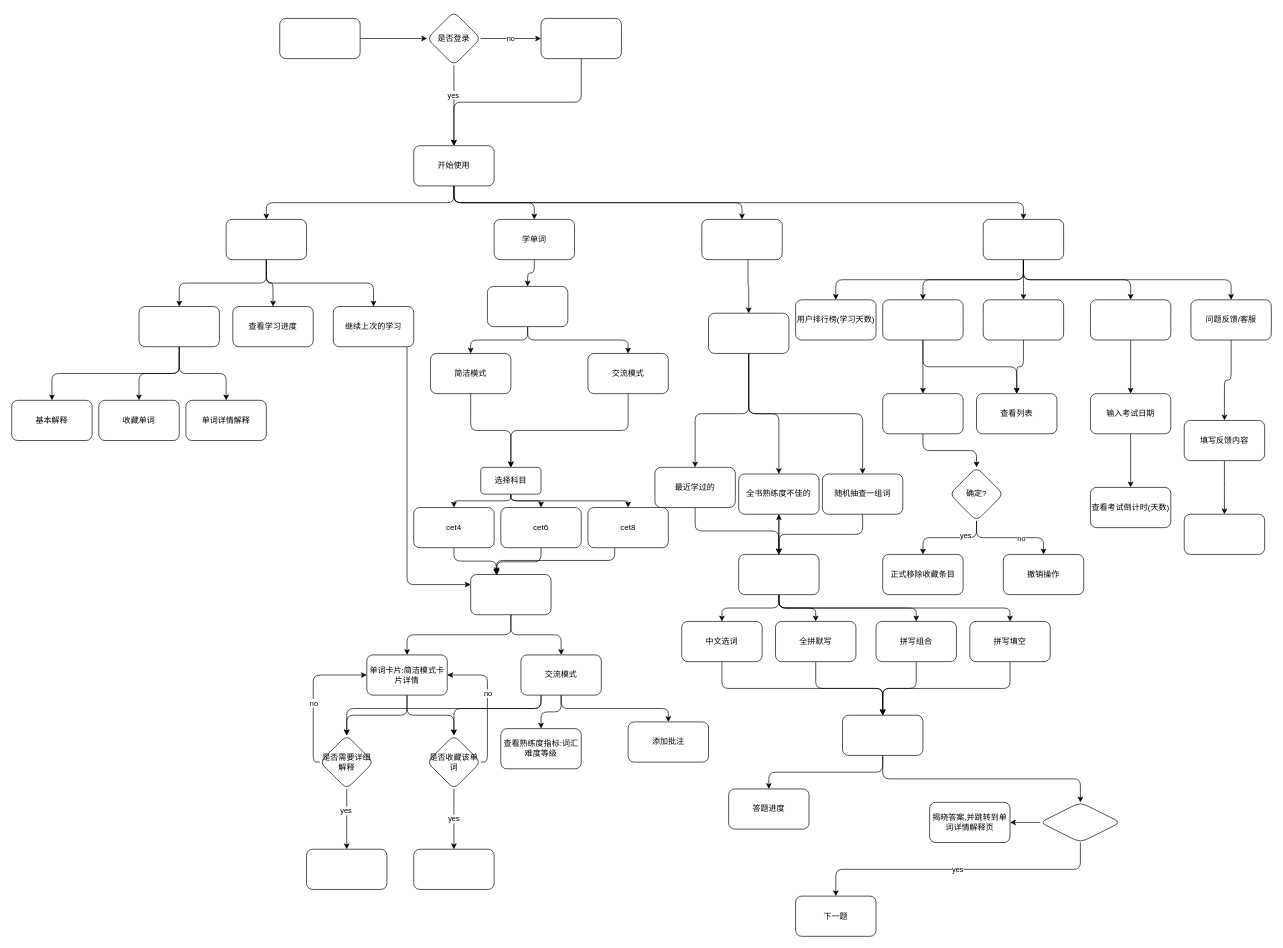
The diagram is 1283 pixels wide and 948 high, and some of its shapes have lost their labels. The box of each missing label's shape, as (x1, y1, x2, y2) in pixels:
刷单词卡片学习单词: (470, 574, 551, 615)
取消收藏: (882, 393, 963, 434)
启动小程序: (279, 18, 360, 59)
复习&测验: (701, 219, 782, 260)
我的: (983, 219, 1064, 260)
授权注册(后台): (540, 18, 621, 59)
提交: (1184, 514, 1265, 554)
收藏列表: (882, 299, 963, 340)
收藏该词: (413, 849, 494, 889)
查单词: (138, 306, 219, 347)
查词历史: (983, 299, 1064, 340)
正确: (1040, 802, 1121, 843)
答题: (842, 715, 923, 755)
考试倒计时: (1090, 299, 1171, 340)
跳转到该词汇词典解释页面: (306, 849, 387, 889)
选择复习策略: (708, 313, 789, 353)
选择复习题型: (738, 554, 819, 595)
选择记忆模式: (487, 286, 568, 327)
首页: (225, 219, 307, 260)
